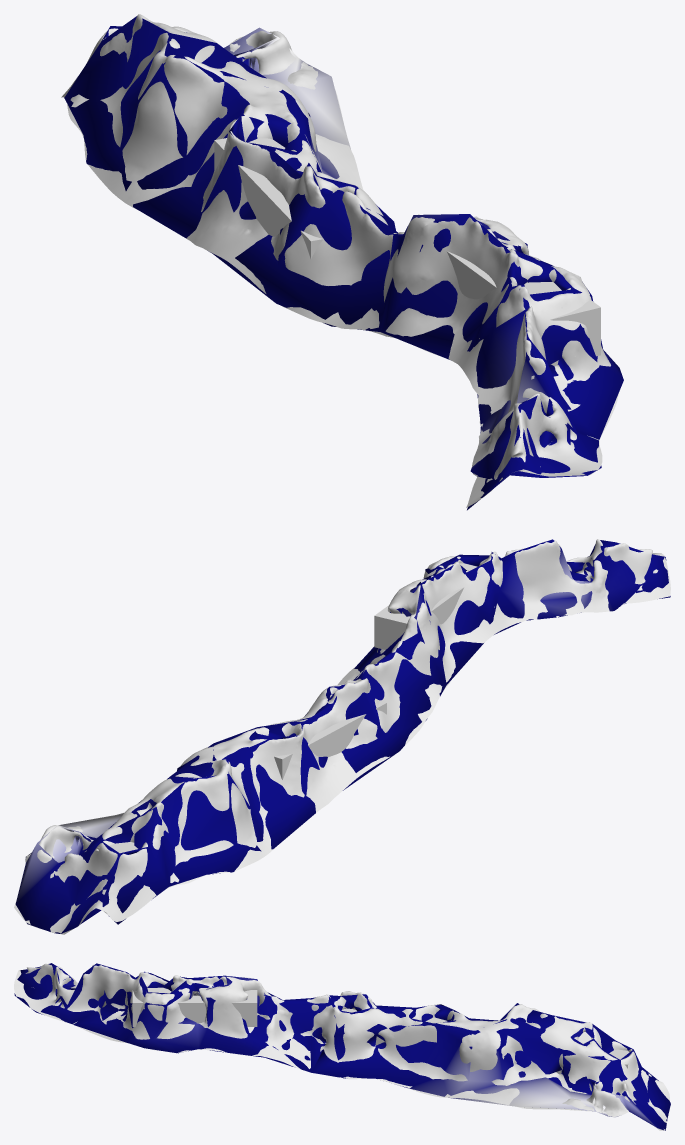
Rendered from zuhak_new4_portals.fbx.
The picture shows the model from 3 angles, top to bottom: view 1: azimuth 30°, elevation 25°; view 2: azimuth 150°, elevation 25°; view 3: azimuth 270°, elevation 25°; orthographic projection. The views are drawn at different scales.
Parts seen in each view (by area): view 1: castle_raw_LOD0, UTM_castle_raw, BOXVOL_01, BOXVOL_03; view 2: UTM_castle_raw, castle_raw_LOD0, BOXVOL_01, BOXVOL_03; view 3: UTM_castle_raw, castle_raw_LOD0, BOXVOL_03.
Part boxes in pixels (x1,y1,x2,y2): castle_raw_LOD0: (61,14,619,507); UTM_castle_raw: (64,16,623,510); BOXVOL_01: (214,138,323,258); BOXVOL_03: (447,216,600,356); UTM_castle_raw: (15,539,670,933); castle_raw_LOD0: (14,539,670,934); BOXVOL_01: (274,700,386,779); BOXVOL_03: (374,587,463,649); UTM_castle_raw: (14,963,670,1130); castle_raw_LOD0: (14,963,669,1130); BOXVOL_03: (132,990,257,1026).
Size of what is drawn, in the model's own units: 3856 by 10937 by 2171.
